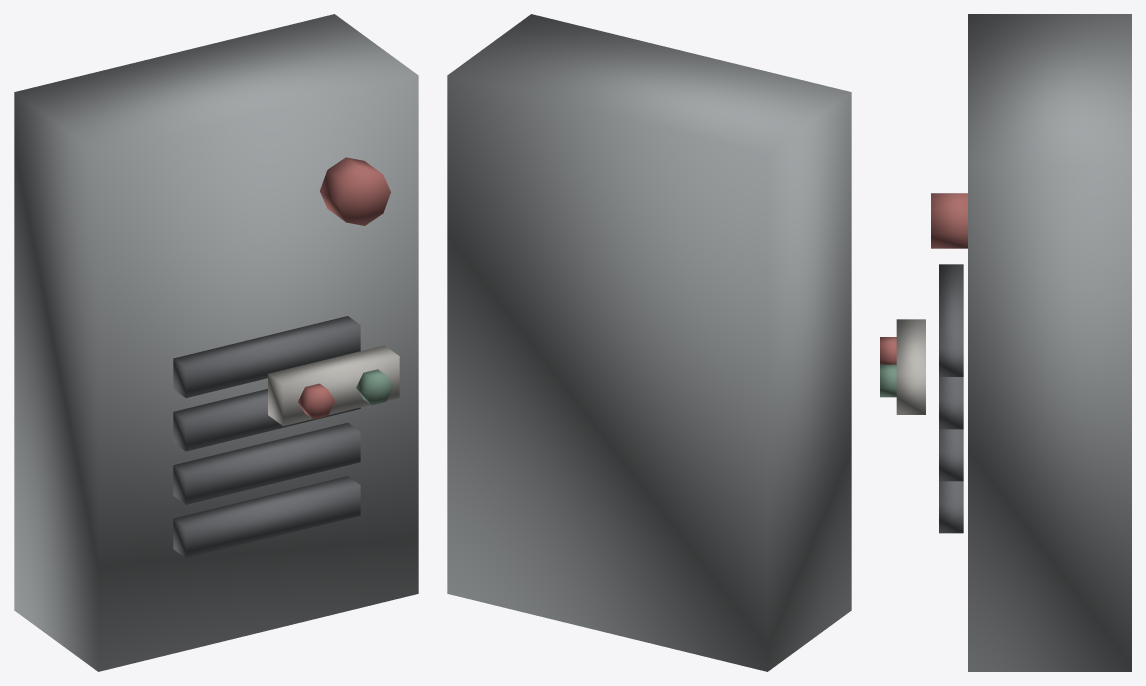
File: wall_intercom.glb
3 views of the same model, side by side, from view 1: azimuth 30°, elevation 25°; view 2: azimuth 150°, elevation 25°; view 3: azimuth 270°, elevation 25° (orthographic). The views are drawn at different scales.
Visible parts, largest first — view 1: world; view 2: world; view 3: world.
Boxes of the visible parts, <box> form: world: <box>14,14,418,671</box>; world: <box>447,14,851,671</box>; world: <box>880,14,1131,671</box>.
Bounding box in the file's own units: 0.22 × 0.34 × 0.1535.
